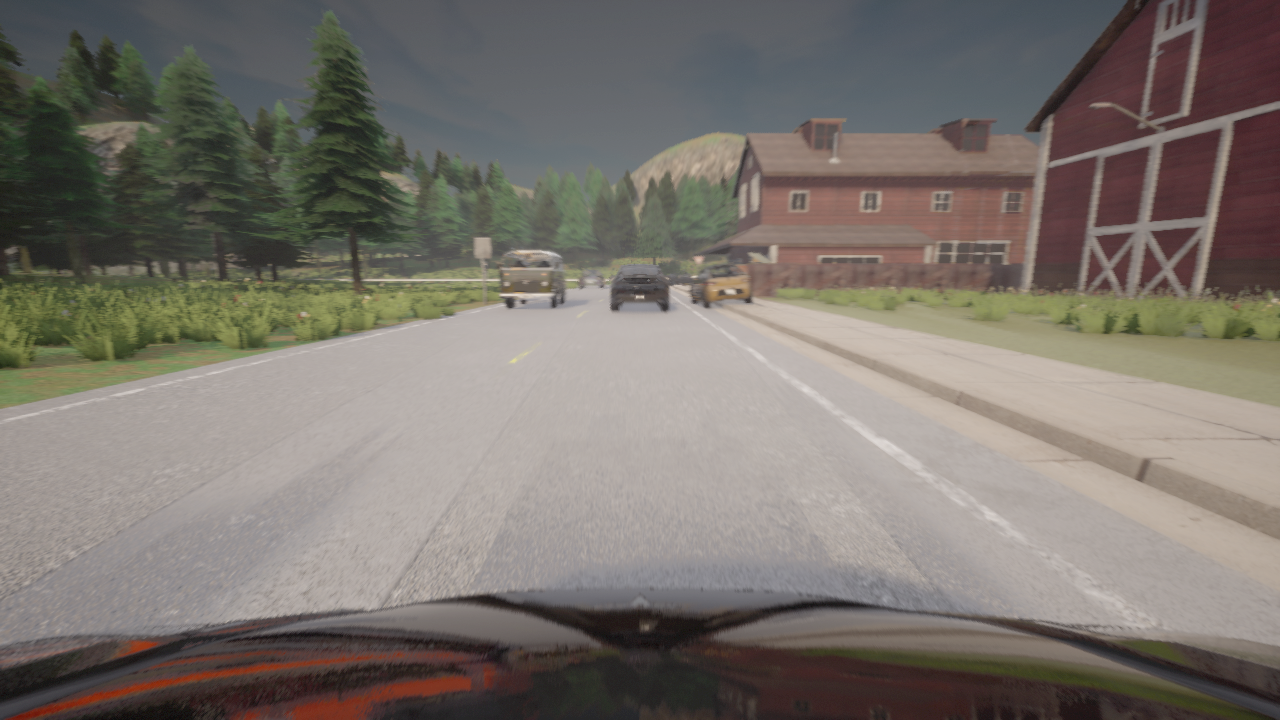cyclist: (0, 588, 1279, 719), (497, 250, 566, 308), (609, 264, 670, 310), (689, 264, 752, 307), (579, 269, 604, 288), (667, 273, 694, 285), (694, 273, 697, 276)
